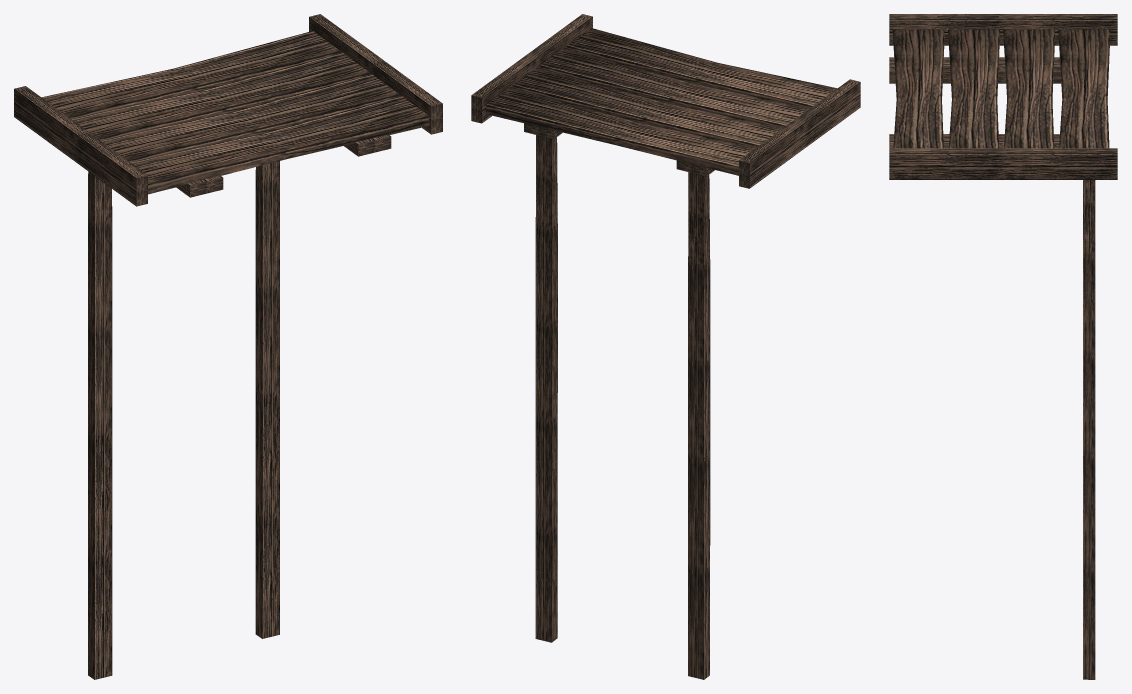
File: CB_LOOKOUT_PLATFORM03.fbx
The picture shows the model from 3 angles, left to right: view 1: azimuth 30°, elevation 25°; view 2: azimuth 150°, elevation 25°; view 3: azimuth 270°, elevation 25°; orthographic projection. The views are drawn at different scales.
Parts seen in each view (by area): view 1: CB_LOOKOUT_PLATFORM03; view 2: CB_LOOKOUT_PLATFORM03; view 3: CB_LOOKOUT_PLATFORM03.
Boxes of the visible parts, left/top/right/bottom form: CB_LOOKOUT_PLATFORM03: left=14, top=14, right=442, bottom=679; CB_LOOKOUT_PLATFORM03: left=471, top=14, right=860, bottom=679; CB_LOOKOUT_PLATFORM03: left=889, top=14, right=1117, bottom=679.
Bounding box in the file's own units: 26035 × 48165 × 18013.
1 material, 1 textured.
